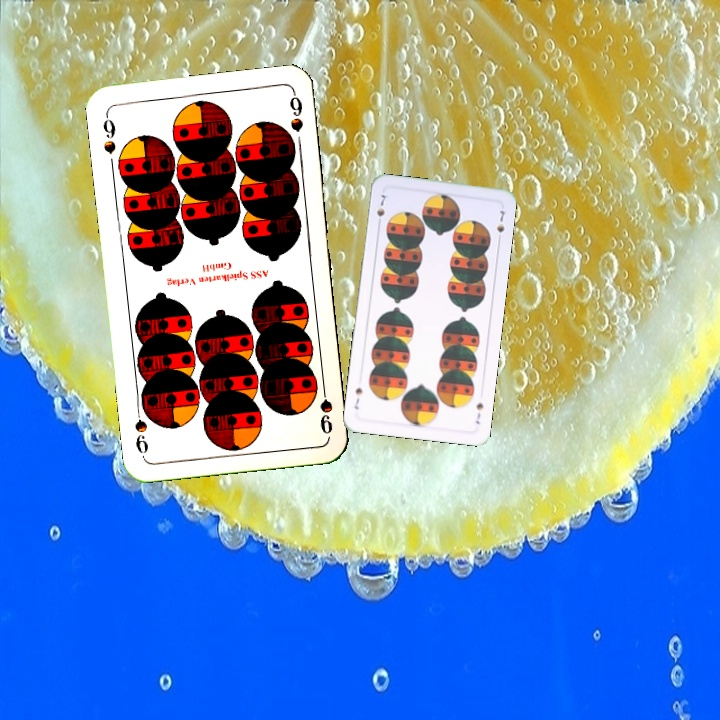S7: (373, 190, 388, 229), (472, 398, 486, 427)
S9: (316, 378, 336, 437), (99, 109, 119, 156)
